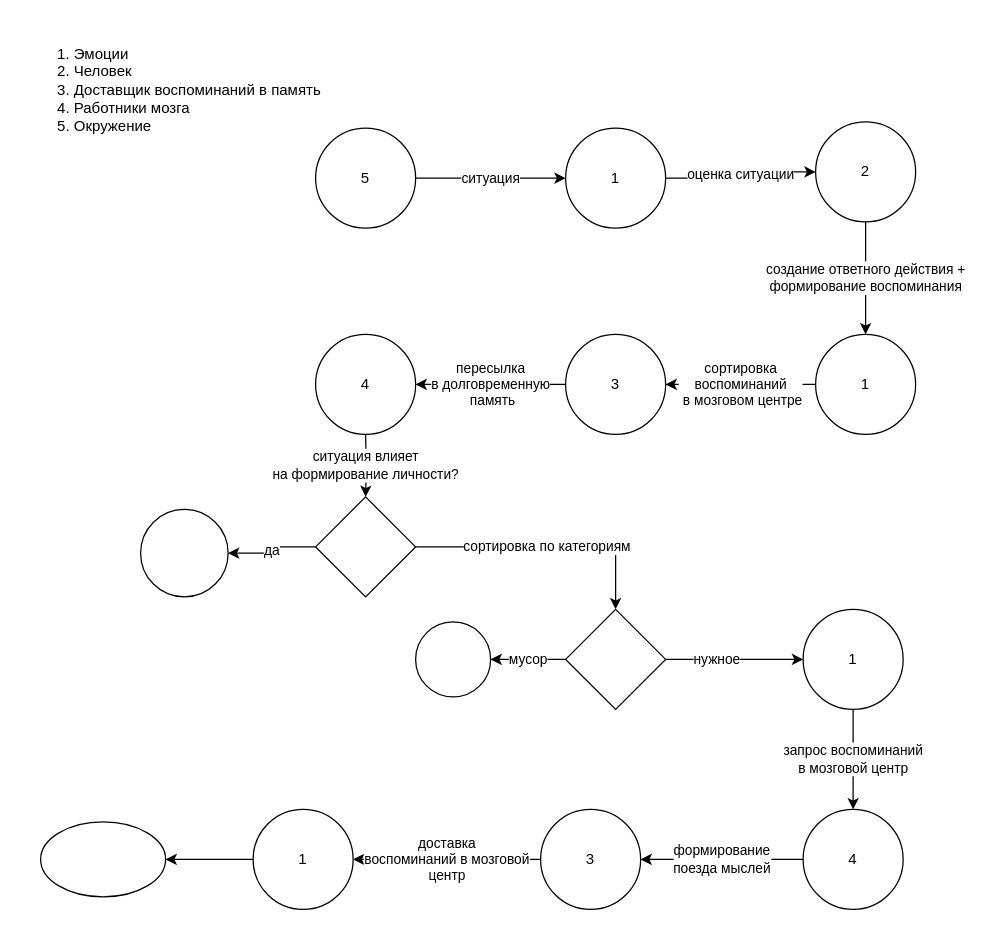
The diagram is 986 pixels wide and 931 high, and some of its shapes have lost their labels. The box of each missing label's shape, as (x1, y1, x2, y2) in pixels:
Выкинули: (414, 621, 491, 697)
проекция воспоминаний: (39, 821, 166, 897)
установка островка памяти: (139, 508, 228, 597)
